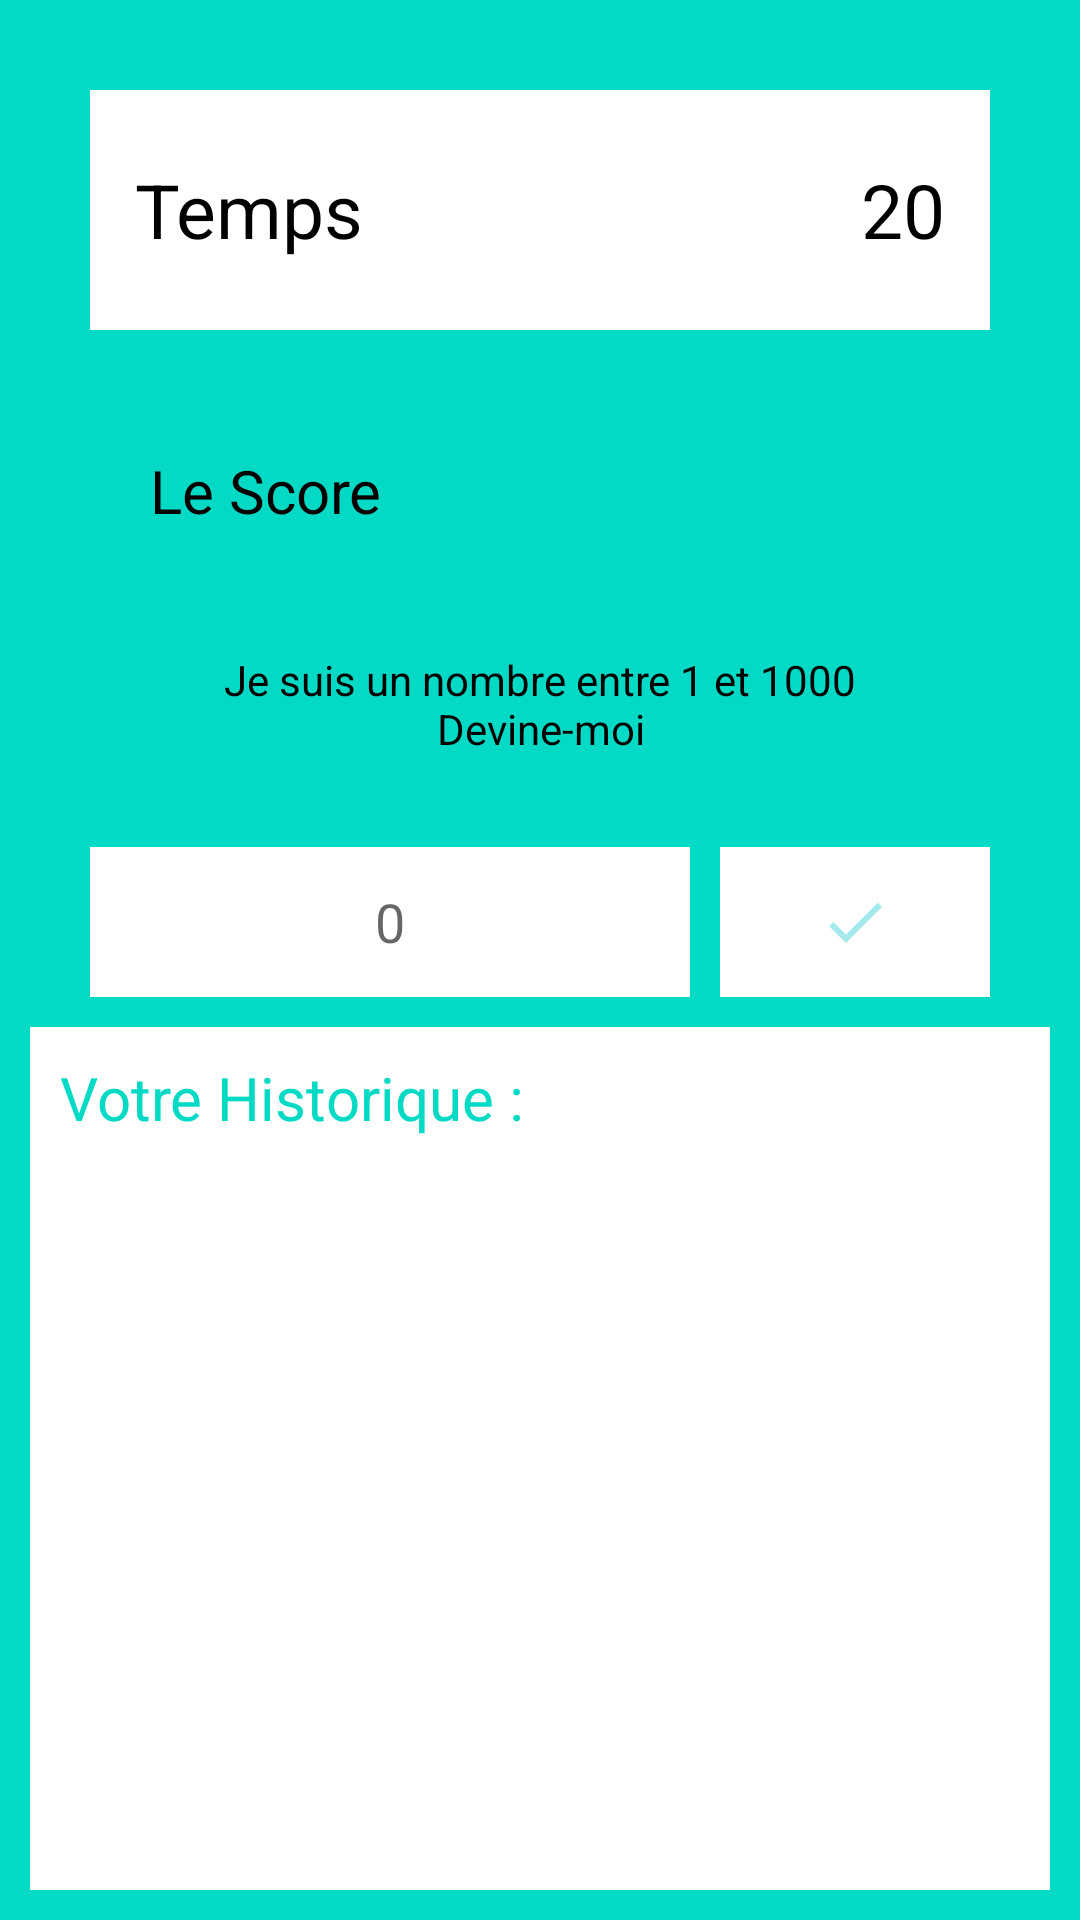

Screen size 1080px x 1920px. Icon name, then its box in pixels as box=[x1, y1, x2, y2]:
check: box=[720, 847, 990, 997]
